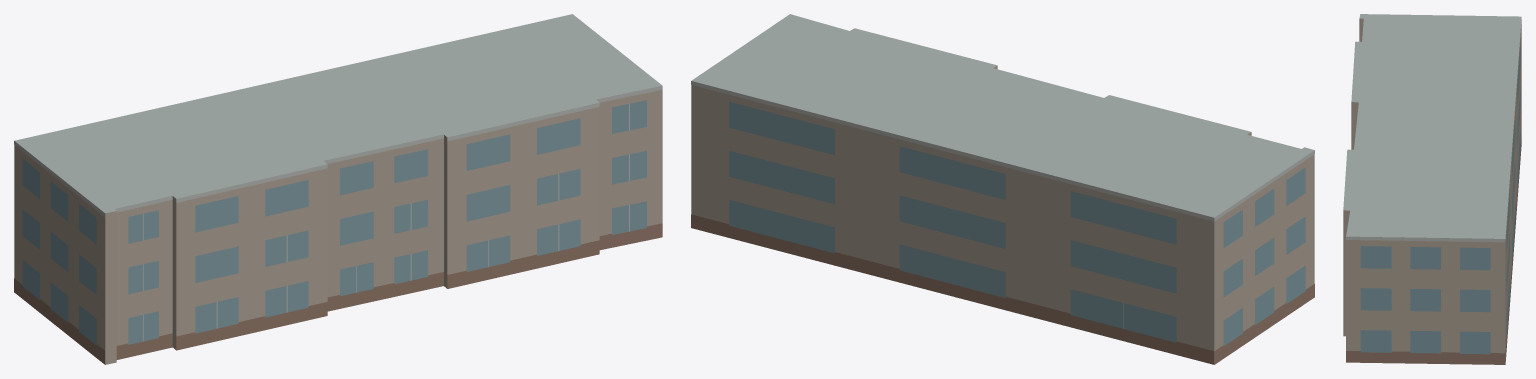
The model's file is survey-upis-32919574.glb.
3 views of the same model, side by side, from view 1: azimuth 30°, elevation 25°; view 2: azimuth 150°, elevation 25°; view 3: azimuth 270°, elevation 25° (orthographic). The views are drawn at different scales.
Parts seen in each view (by area): view 1: survey-upis-32919574.tmp; view 2: survey-upis-32919574.tmp; view 3: survey-upis-32919574.tmp.
Part boxes in pixels (x1=…): survey-upis-32919574.tmp: x1=14, y1=14, x2=662, y2=364; survey-upis-32919574.tmp: x1=691, y1=14, x2=1314, y2=364; survey-upis-32919574.tmp: x1=1343, y1=14, x2=1521, y2=364.
Bounding box in the file's own units: 35.06 × 9.15 × 11.76.
